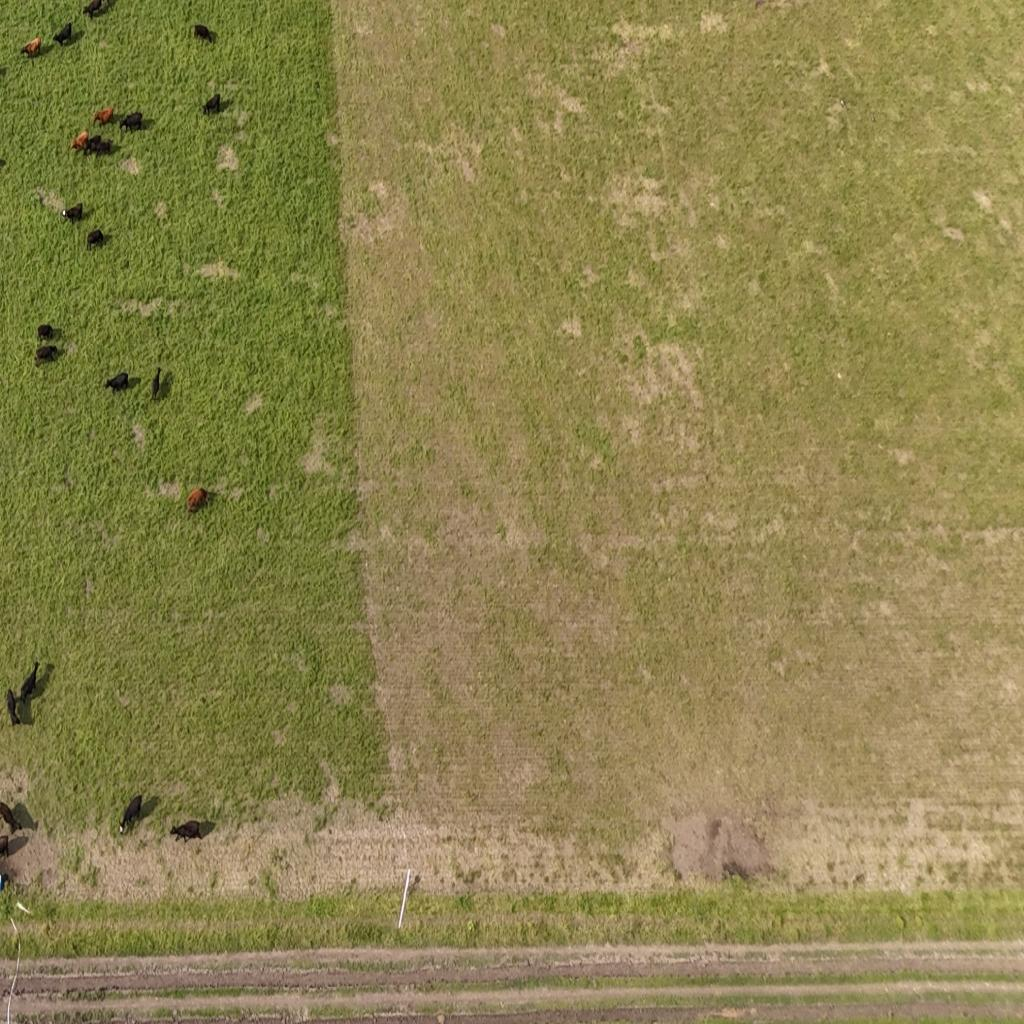cow: (118, 792, 145, 838), (18, 660, 38, 704), (170, 820, 204, 843), (0, 800, 22, 835), (104, 372, 130, 393), (85, 137, 112, 157), (119, 111, 143, 133), (187, 487, 208, 512), (34, 344, 60, 364), (6, 688, 19, 728), (20, 36, 42, 58), (53, 22, 72, 46), (82, 0, 105, 19), (193, 24, 214, 44), (62, 202, 82, 222), (93, 106, 113, 126), (86, 229, 104, 251), (202, 94, 220, 116), (70, 131, 88, 152), (37, 324, 55, 344), (151, 366, 161, 400), (0, 834, 10, 860)
